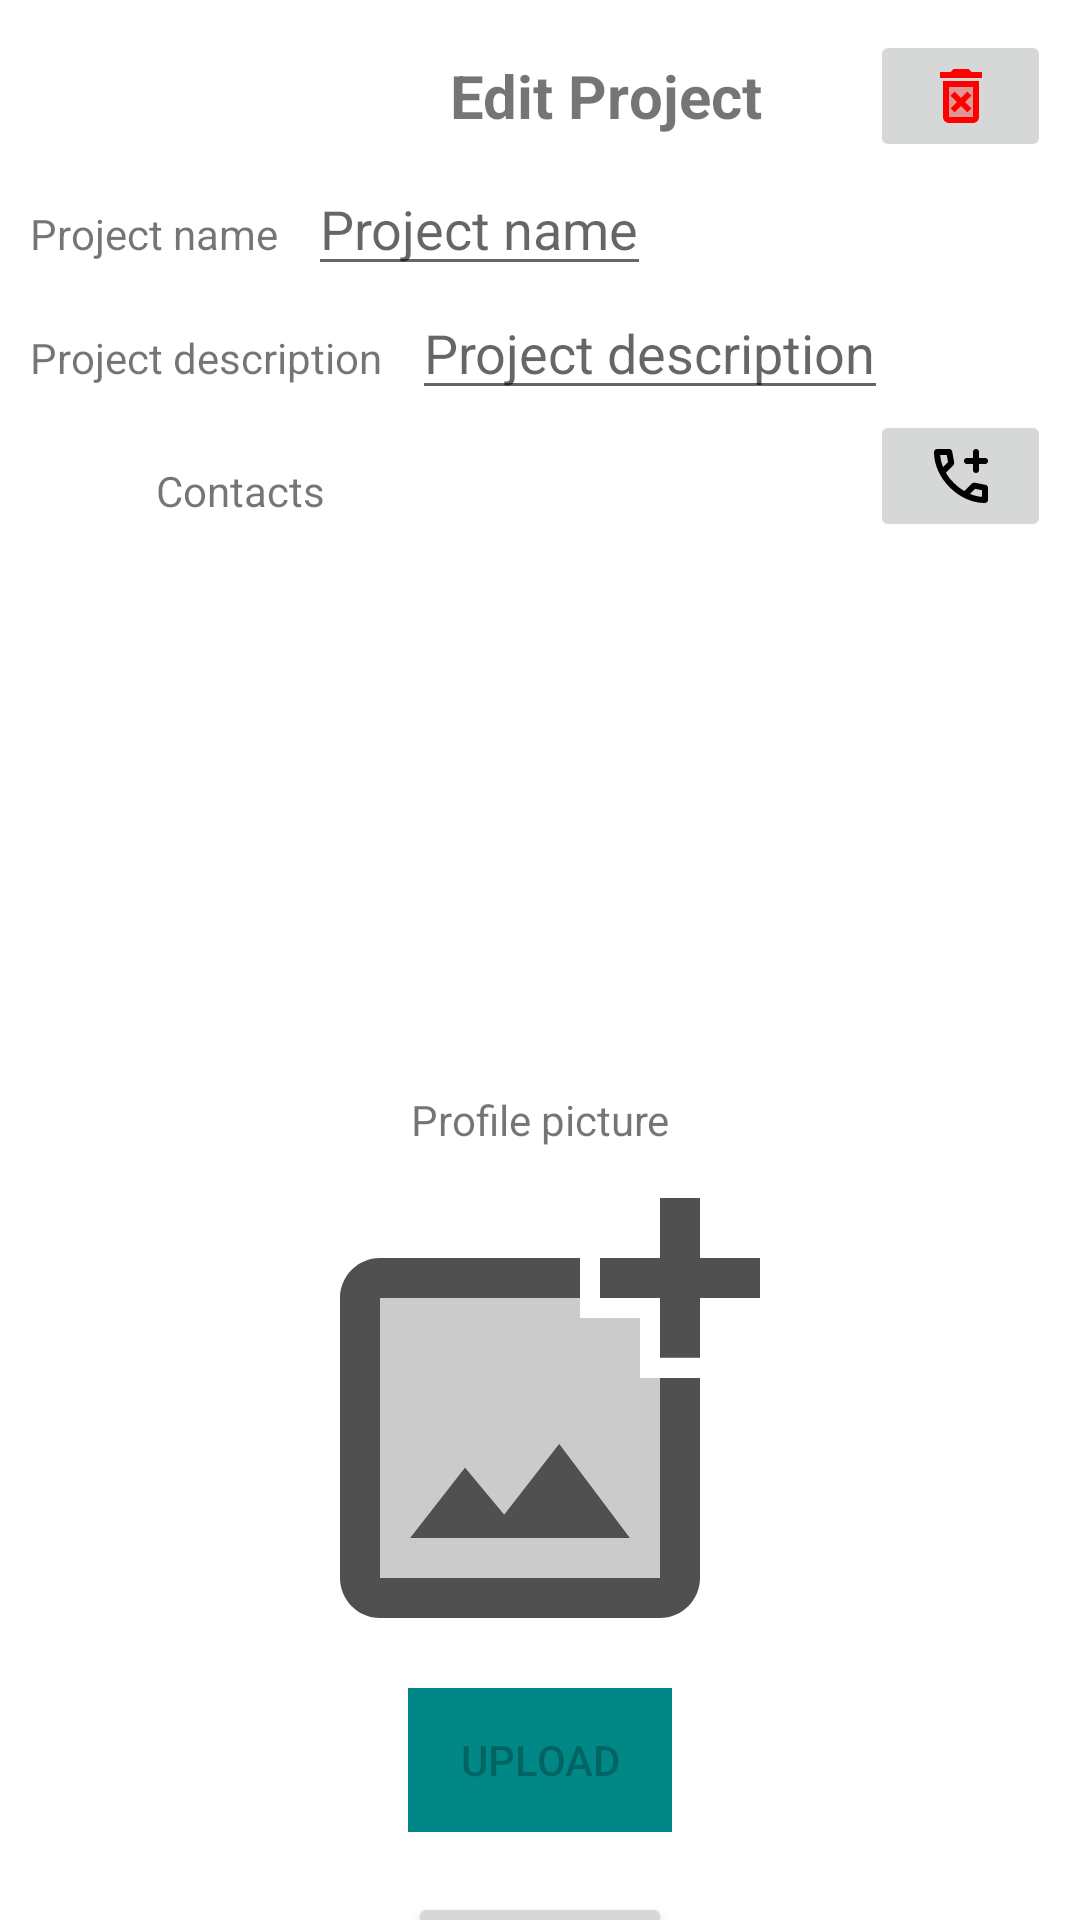

Icon click points for this 1080 × 1920 phone screenshot, format [x,y]:
add contact: [960,476]
delete: [960,96]
